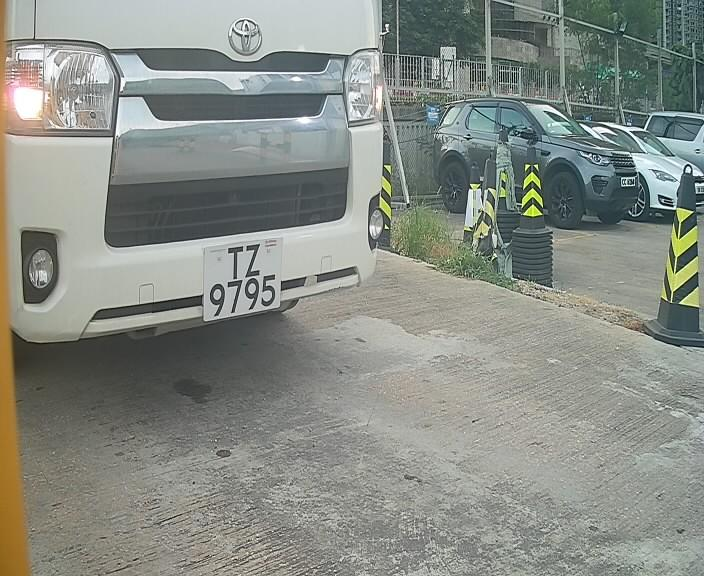License Plate: (192, 229, 296, 335)
